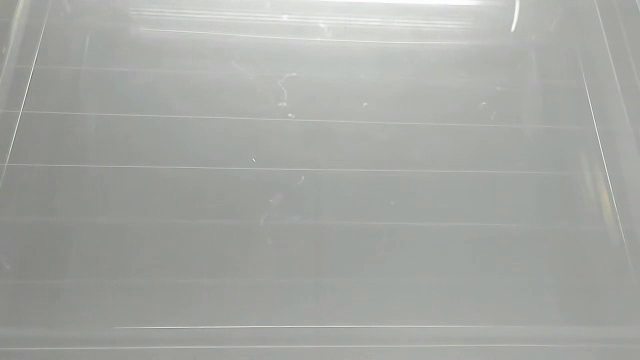alpha: (505, 1, 523, 36)
